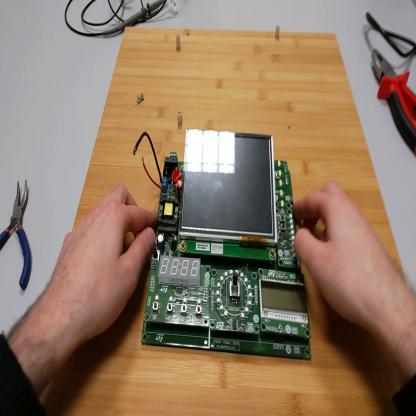hand: (48, 181, 159, 350), (293, 179, 394, 335)
low voltage board: (134, 126, 313, 360)
oscilloscope probe tip: (104, 2, 165, 36)
pliers: (373, 51, 416, 156), (1, 180, 37, 291)
working area: (40, 26, 407, 415)
